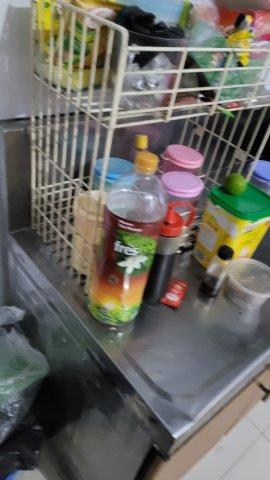botolplastik: (88, 151, 166, 327)
